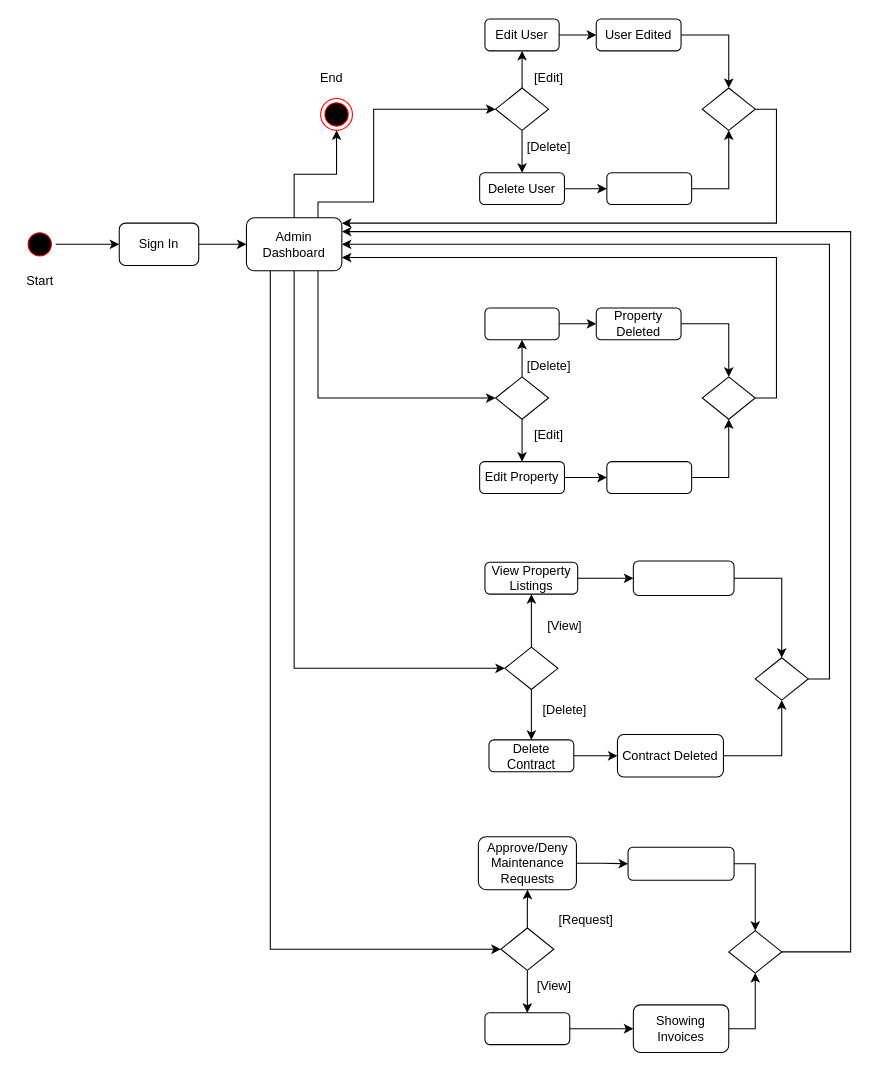
Image size: 878x1071. Some labels were removed from this diagram. Here are the shapes that lost their labels. From the top down, the centre of each, then its label:
the point at 649,188: User Deleted
the point at 521,323: Delete Property
the point at 649,477: Property Edited
the point at 683,578: Showing Property Listings
the point at 680,863: Request Approved/Denied
the point at 527,1028: View Invoices
